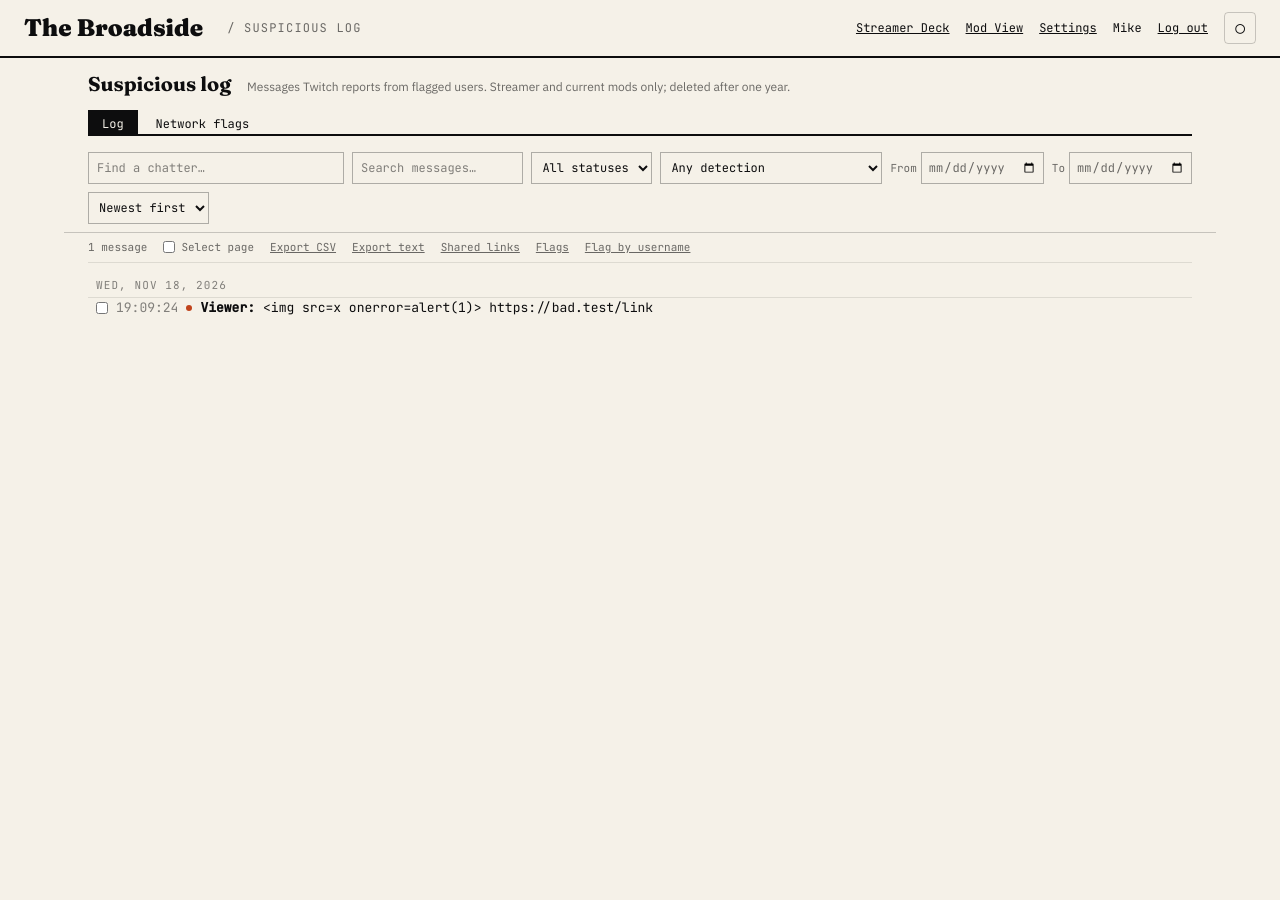
Test case: SuspiciousLogView sharing › tells you who can read a link before making it
This screenshot has width=1280, height=900.
Click the checkbox named "select message from viewer": x=102, y=308 [96,302,108,314]
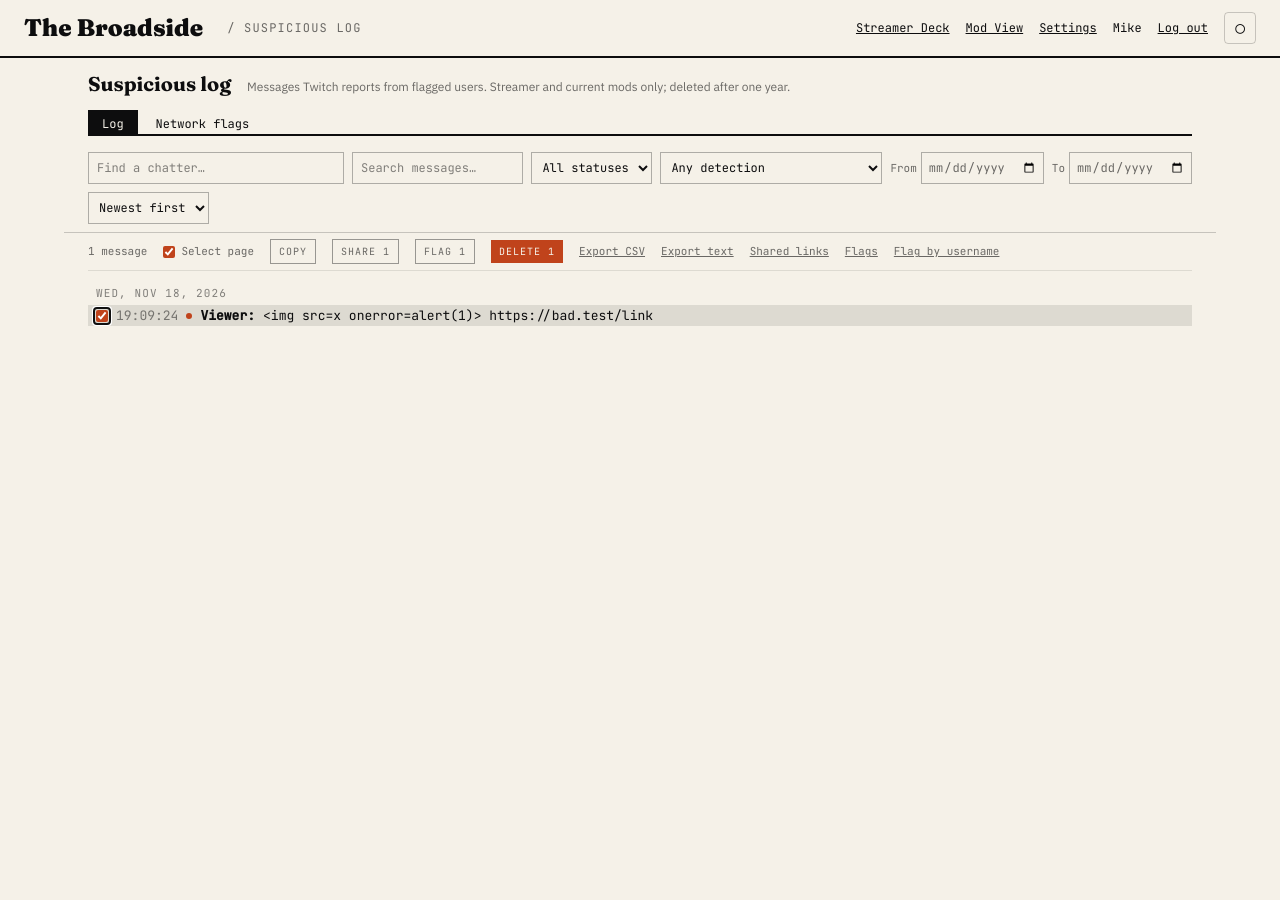
Click the button "Share 1": x=366, y=252 [332,239,399,264]
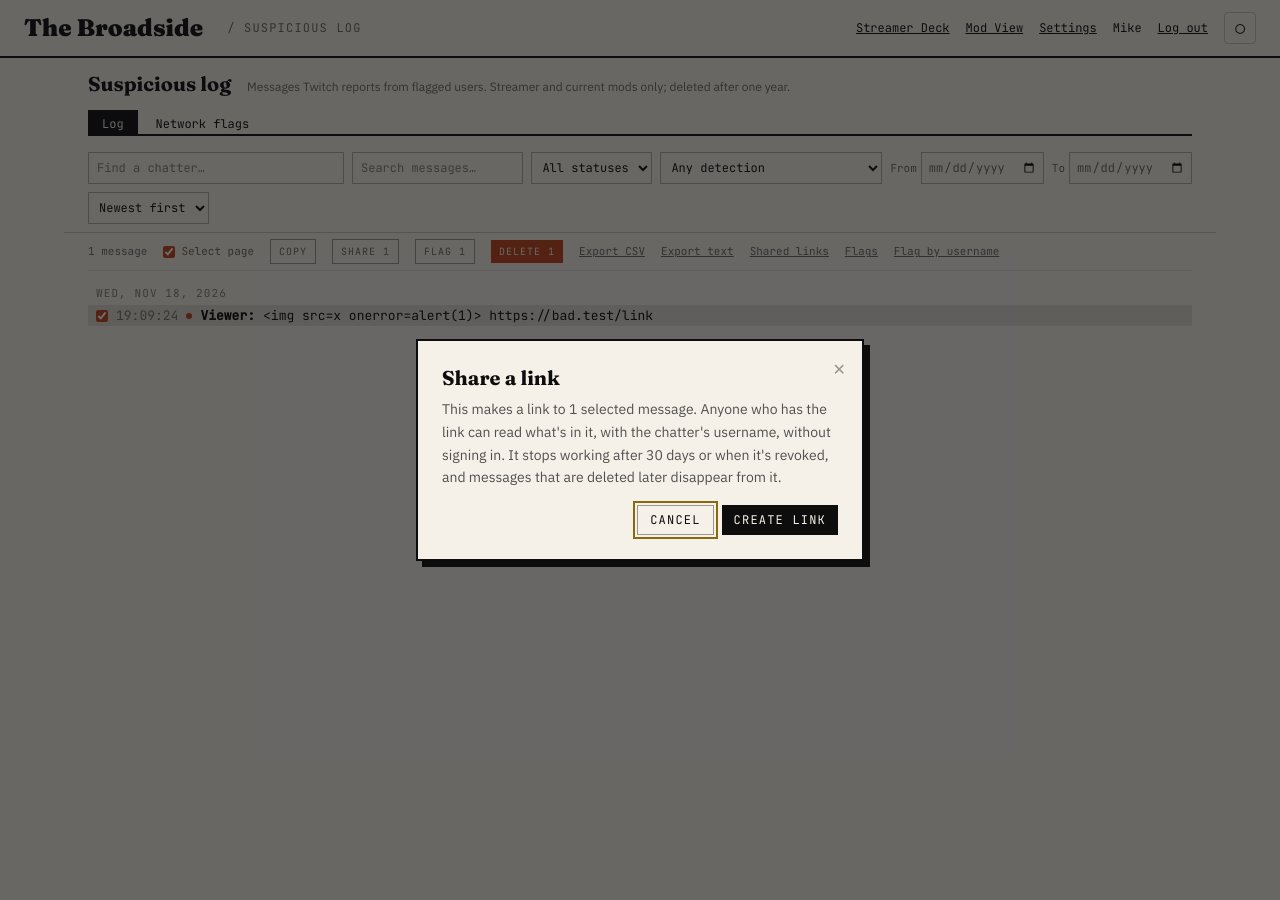
Now the dialog "Share a link" shows "anyone who has the link can read", box [442,400,831,464]
Now the dialog "Share a link" shows "30 days", box [416,339,864,561]
